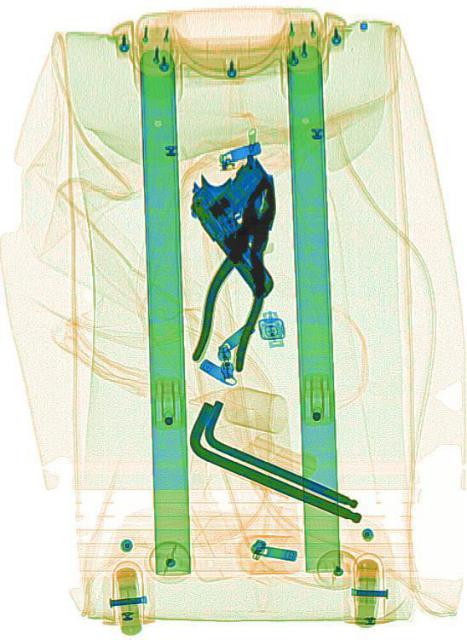Gun: (176, 127, 317, 305)
Pliers: (187, 158, 296, 382)
